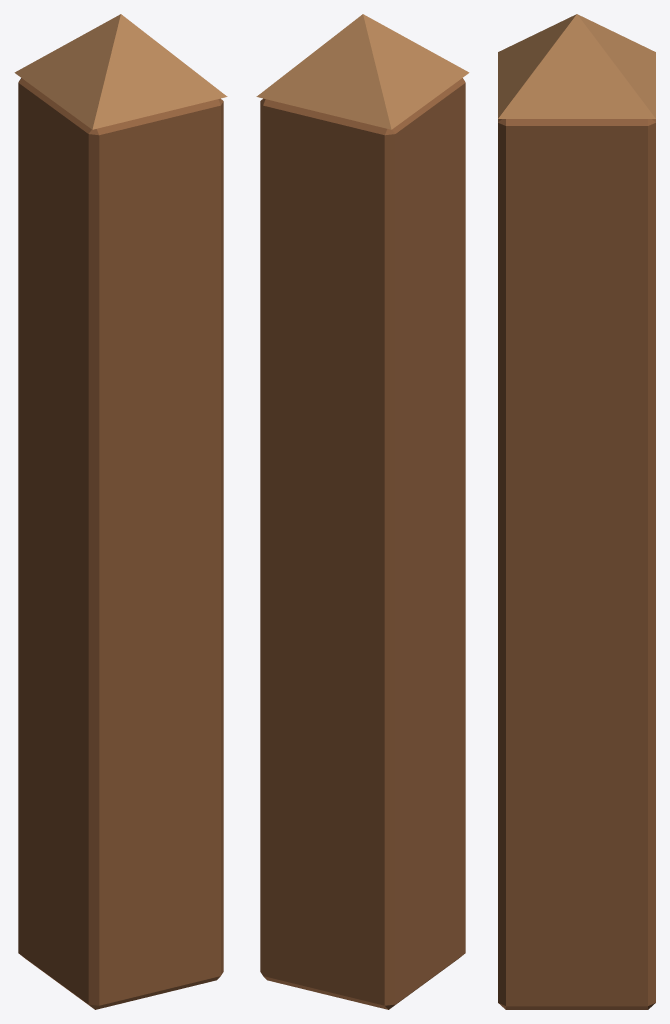
File: fence_post.glb
The picture shows the model from 3 angles, left to right: view 1: azimuth 30°, elevation 25°; view 2: azimuth 150°, elevation 25°; view 3: azimuth 270°, elevation 25°; orthographic projection.
Parts seen in each view (by area): view 1: Alfa_fence_post; view 2: Alfa_fence_post; view 3: Alfa_fence_post.
Boxes of the visible parts, left/top/right/bottom form: Alfa_fence_post: left=14, top=14, right=227, bottom=1009; Alfa_fence_post: left=256, top=14, right=469, bottom=1009; Alfa_fence_post: left=498, top=14, right=655, bottom=1009.
Size of the model in its own units: 0.16 by 1.08 by 0.16.
